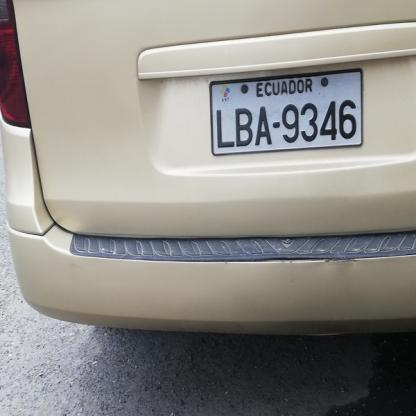Placa: (201, 72, 372, 165)
